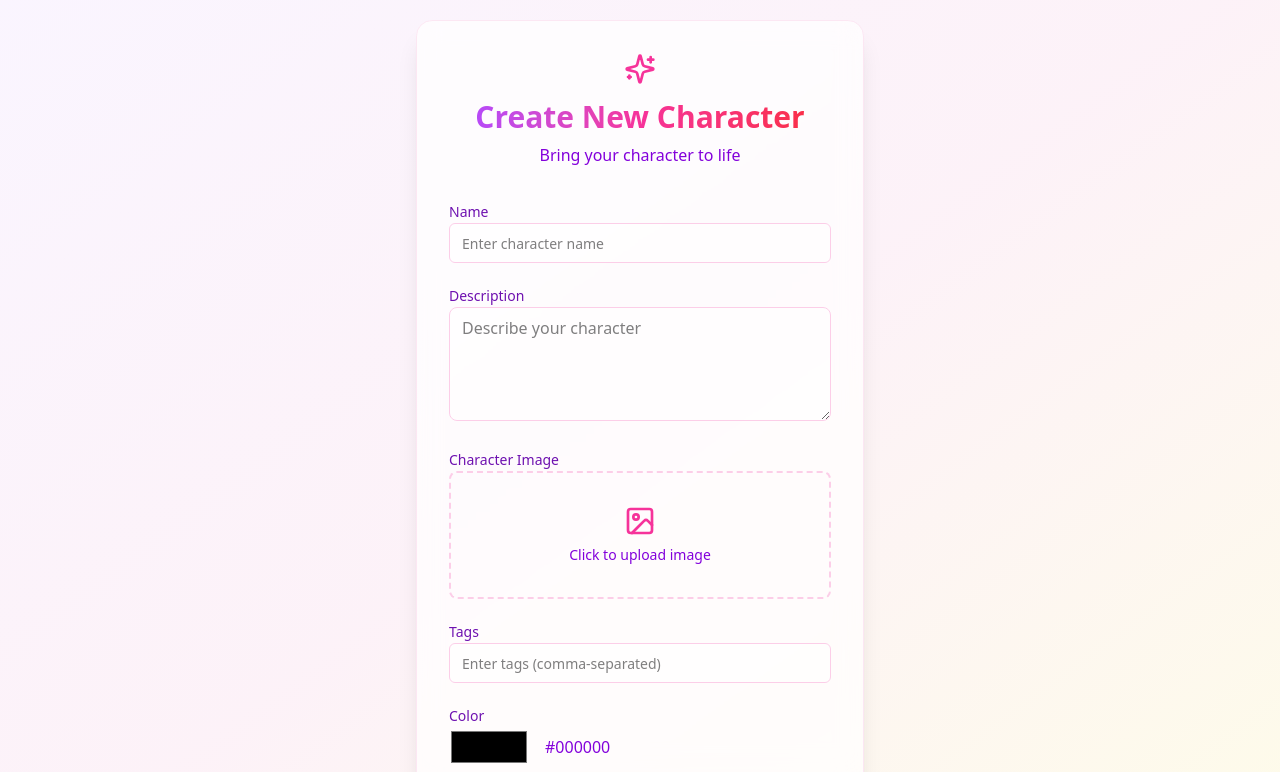
Scenario: AddCharacterPage › handles form submission error
Note: Fill out minimum required fields
In the field labelled "Name": [640, 243] box [449, 223, 831, 263], type "Test Character"
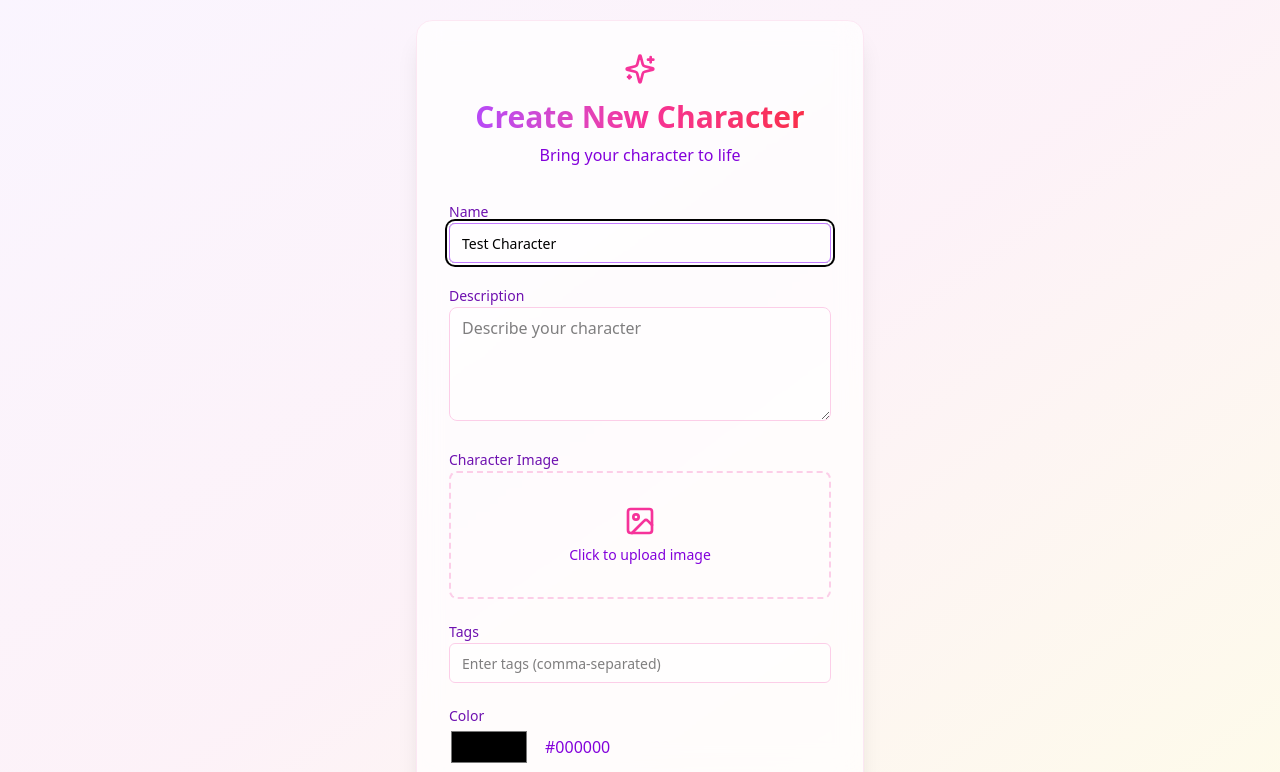
In the text box labelled "Description": [640, 364] box [449, 307, 831, 421], type "Test Description"
(page scrolled)
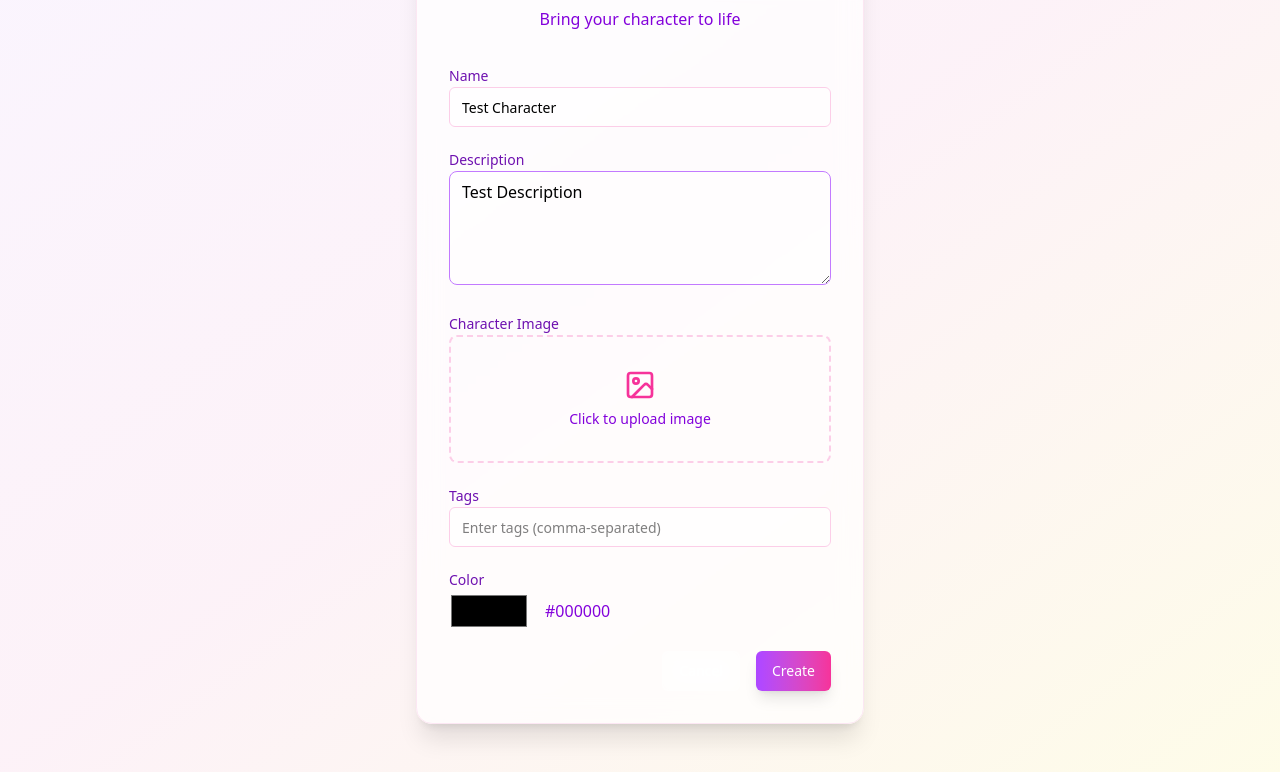
Note: Submit the form
Click the button "Create": [793, 671] box [756, 651, 831, 691]
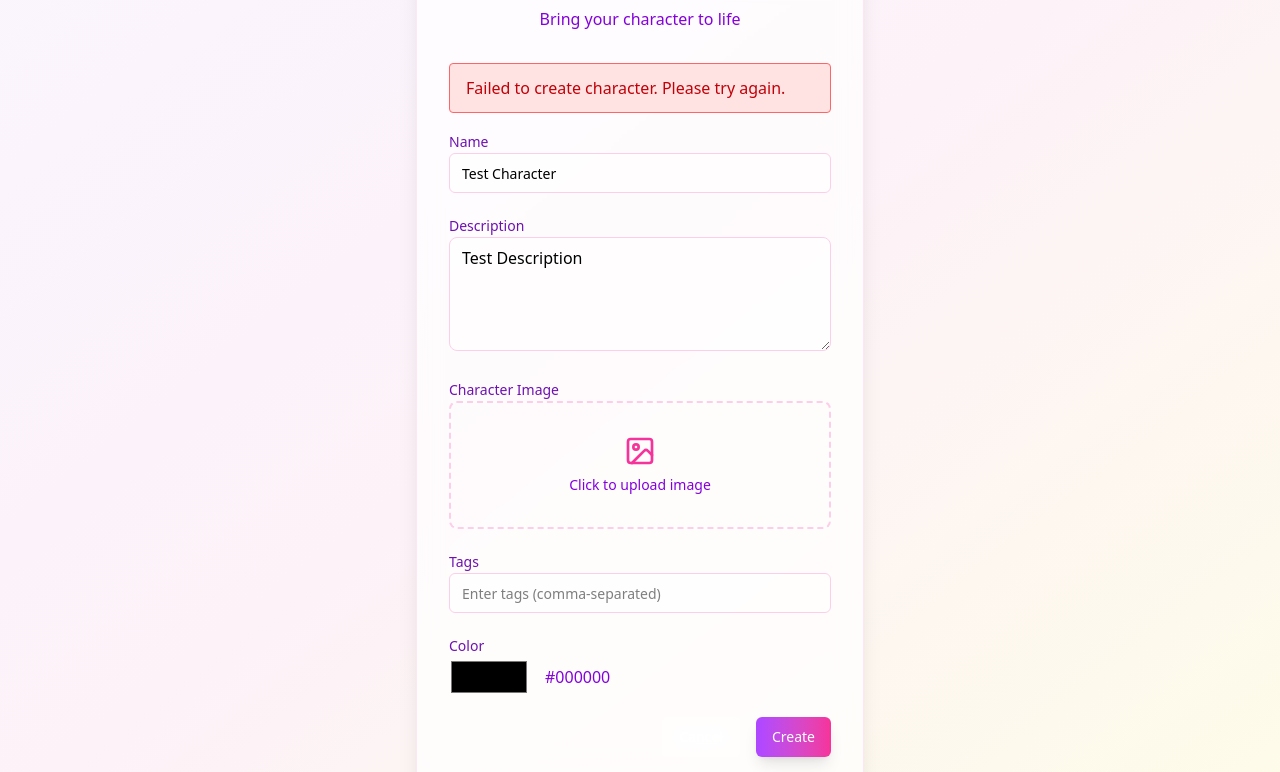
Now the text "Failed to create character. Please try again." is shown, box [449, 63, 831, 113]
